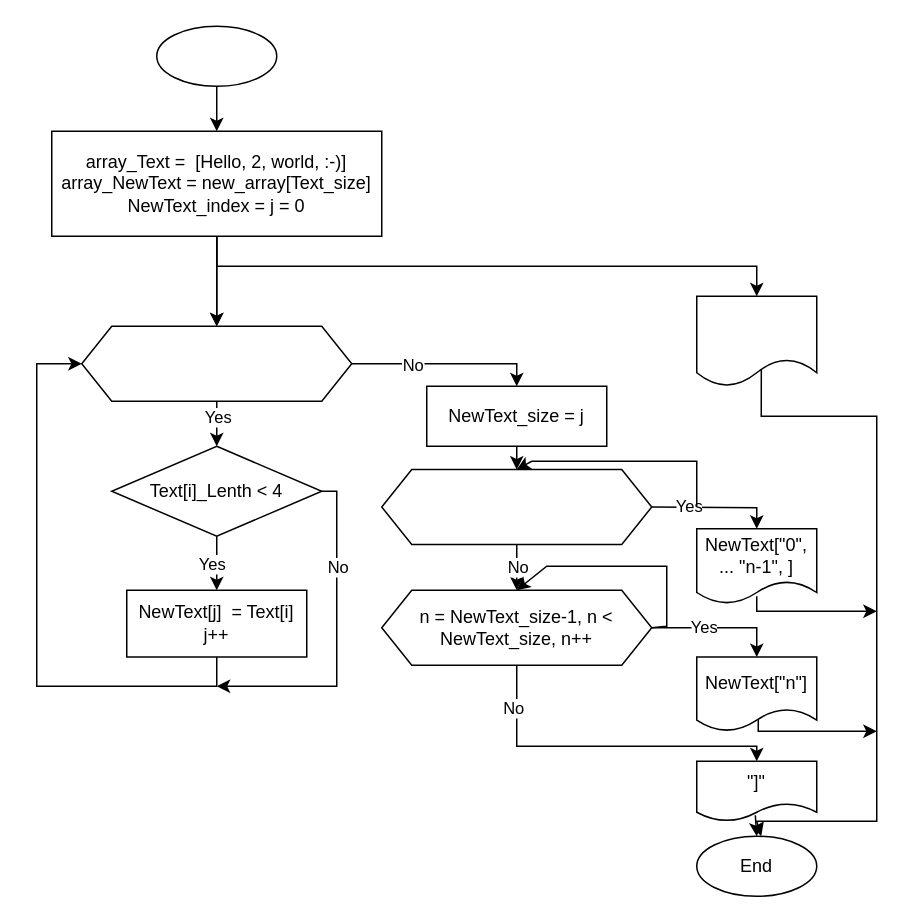
Image size: 915x923. Some labels were removed from this diagram. Each missing label, with the box of its shape:
[ Text["0", "1", "2", "3"] ] - > [: (695, 295, 817, 386)
i = 0, i < Text_size, i++: (80, 325, 352, 401)
n = 0, n < NewText_size-1, n++: (380, 468, 652, 544)
Start: (155, 25, 277, 86)
